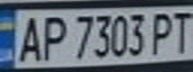0: (112, 11, 133, 57)
3: (127, 10, 151, 57), (90, 11, 112, 60)
7: (69, 11, 93, 60)
A: (12, 12, 45, 63)
P: (36, 12, 69, 62), (148, 9, 178, 55)
T: (169, 8, 193, 53)
